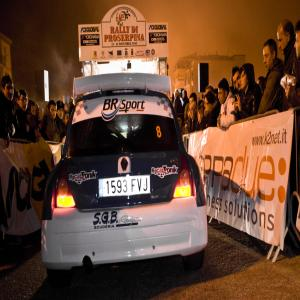Vehicle-registration-plate: (99, 176, 151, 198)
